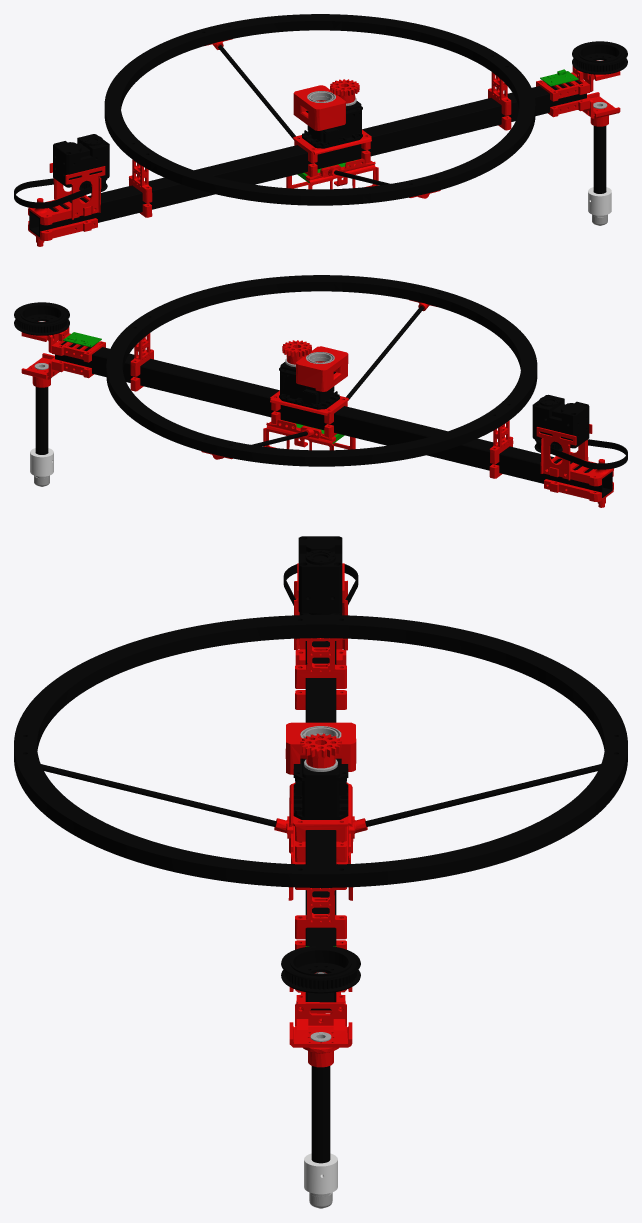
Rendered from middle_link.dae.
3 renders of one model, top to bottom at view 1: azimuth 30°, elevation 25°; view 2: azimuth 150°, elevation 25°; view 3: azimuth 270°, elevation 25°, orthographic. The views are drawn at different scales.
Visible parts, largest first — view 1: Black, Red, Silver, White, Green; view 2: Black, Red, Silver, White, Green; view 3: Black, Red, White, Silver.
Part boxes in pixels (<box>): Black: <box>14,14,627,236</box>; Red: <box>28,39,620,246</box>; Silver: <box>307,60,607,225</box>; White: <box>588,187,611,215</box>; Green: <box>297,69,578,182</box>; Black: <box>14,275,627,497</box>; Red: <box>21,300,613,507</box>; Silver: <box>34,321,334,486</box>; White: <box>30,448,53,476</box>; Green: <box>63,332,344,443</box>; Black: <box>14,536,627,1163</box>; Red: <box>274,563,367,1067</box>; White: <box>304,1153,337,1194</box>; Silver: <box>300,726,341,1208</box>.
Size of the model in its own units: 0.6503 by 0.4 by 0.2149.
